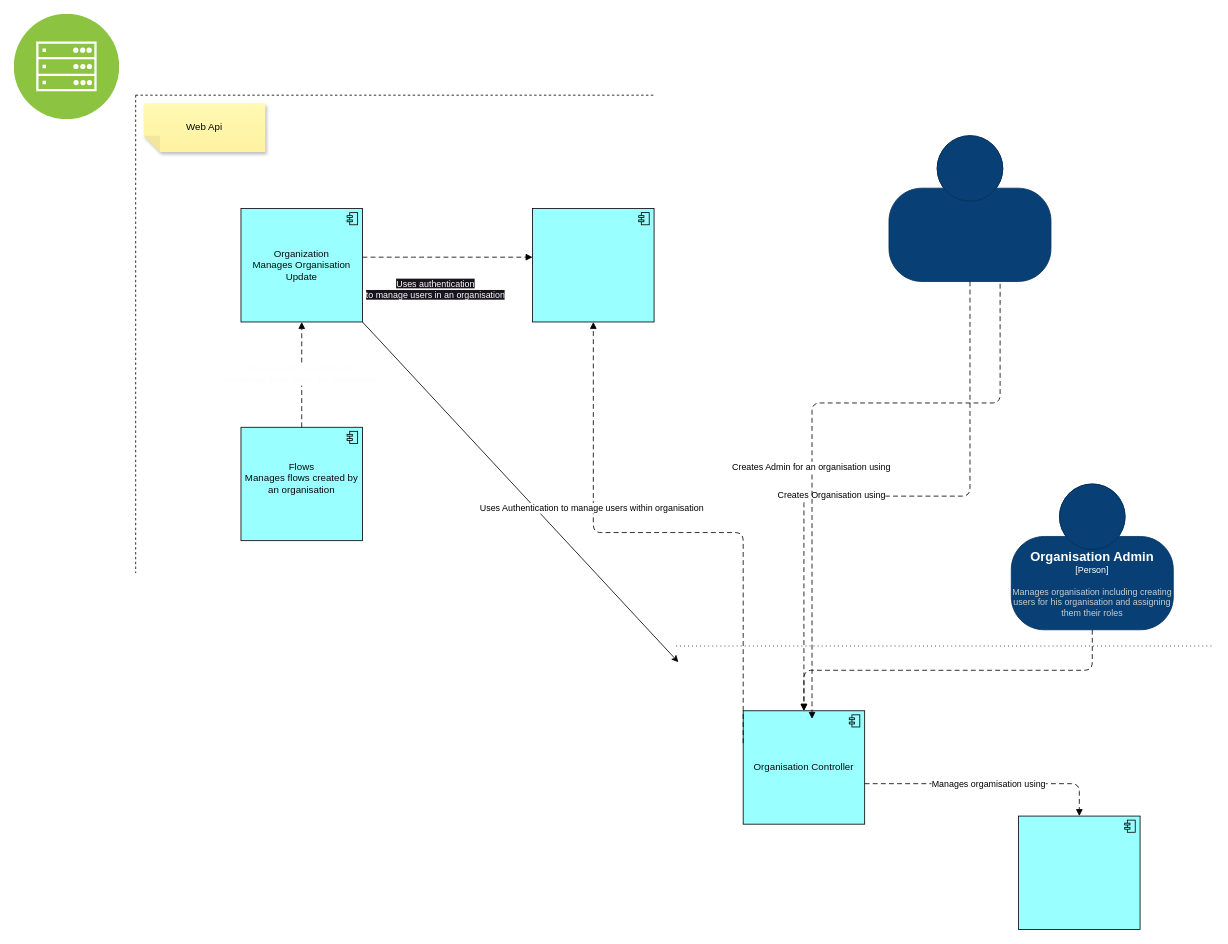
This 1228x944 diagram has some shape labels left out. Here are the shapes that lost their labels. From the top down, the centre of each, then its label:
the point at 969,208: SuperAdmin [Person] Owner of Application
the point at 593,265: Authentication Manages users and what they can do
the point at 1079,872: Organisation Service
